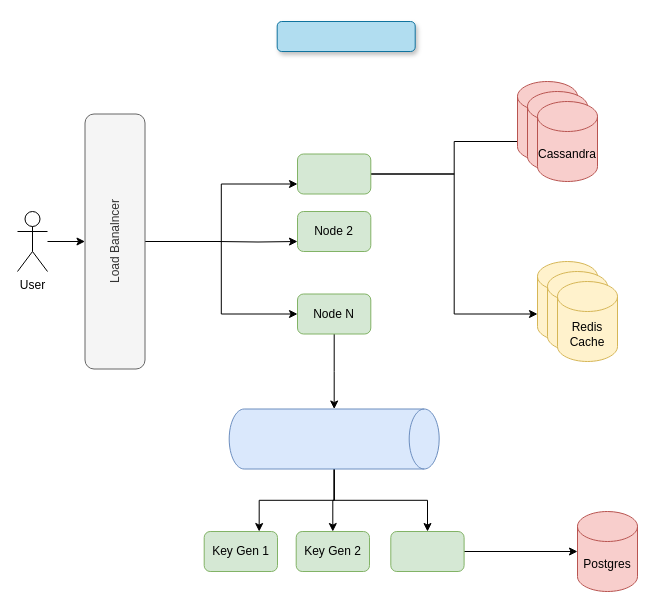
The diagram is 655 pixels wide and 609 high, and some of its shapes have lost their labels. The centre of each missing label's shape, as x and y in pixels:
Key Gen N: [427,551]
NATS: [333,438]
Node 1: [333,173]
Url Shortner: [346,37]
